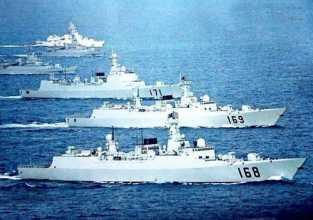warship: (15, 129, 311, 183), (8, 76, 301, 130), (12, 49, 204, 100), (21, 16, 118, 51), (1, 52, 82, 77)
